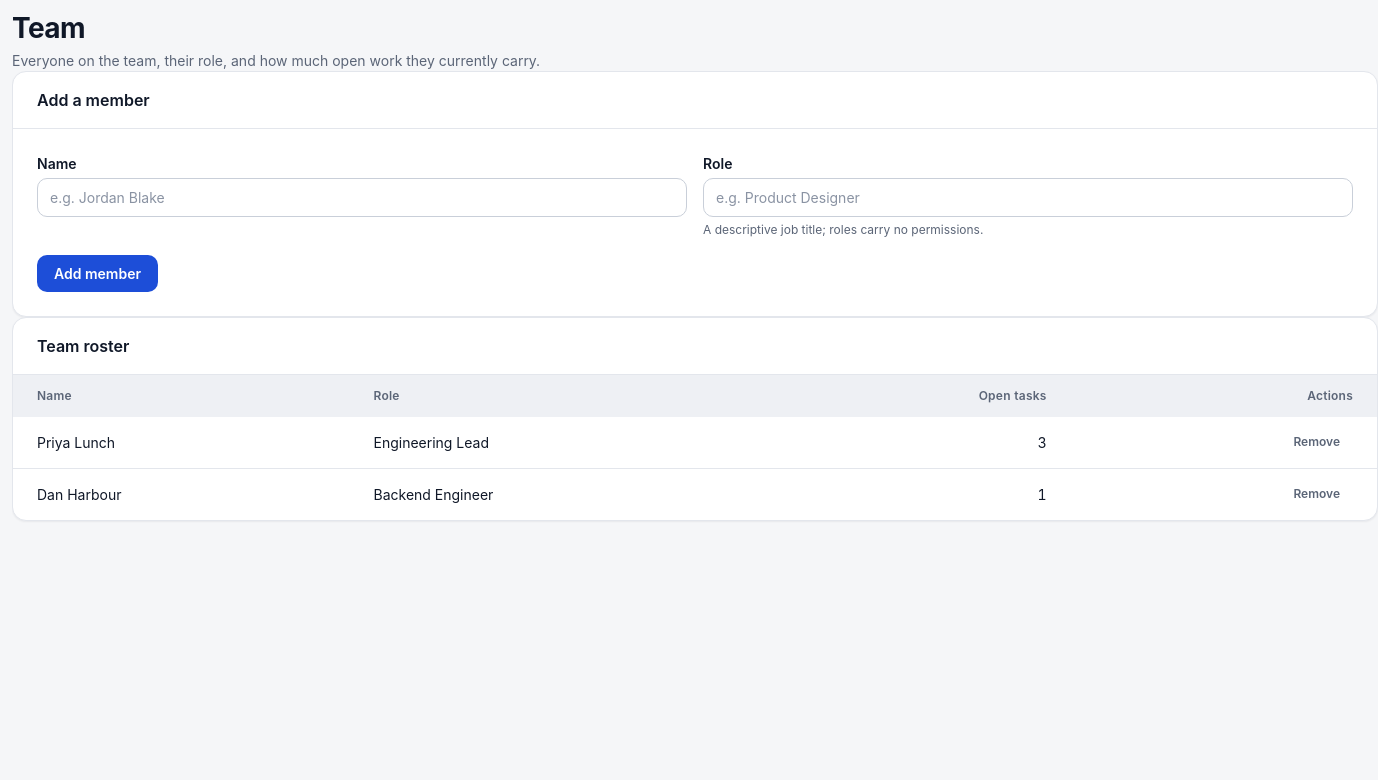
Test: TeamRoster › adds a member through the API and shows them in the list
Expected: the text "Priya Lunch" is shown, [13,417,350,468]
Type "Jordan Blake" into the field labelled "Name" at [362, 197], box [37,178,687,217]
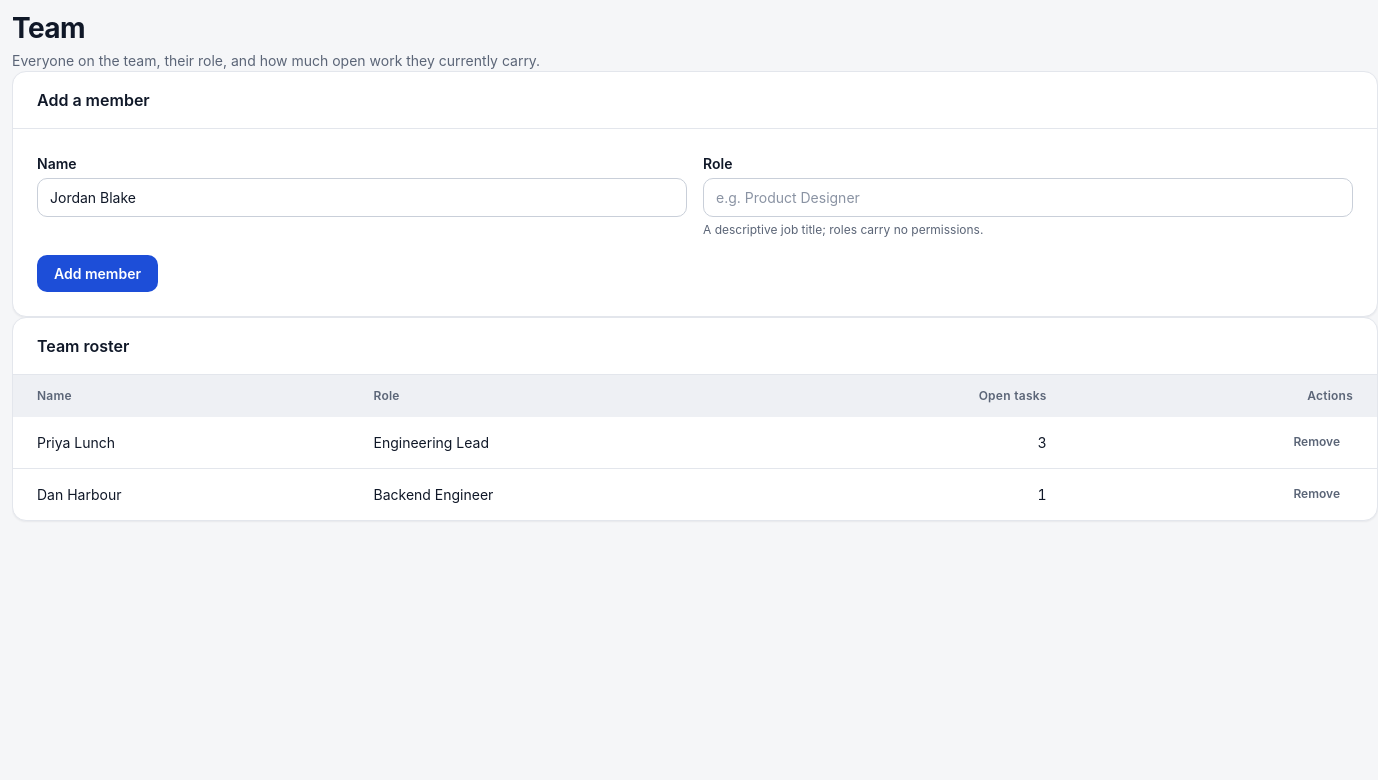
Type "Product Designer" into the field labelled "Role" at [1028, 197], box [703,178,1353,217]
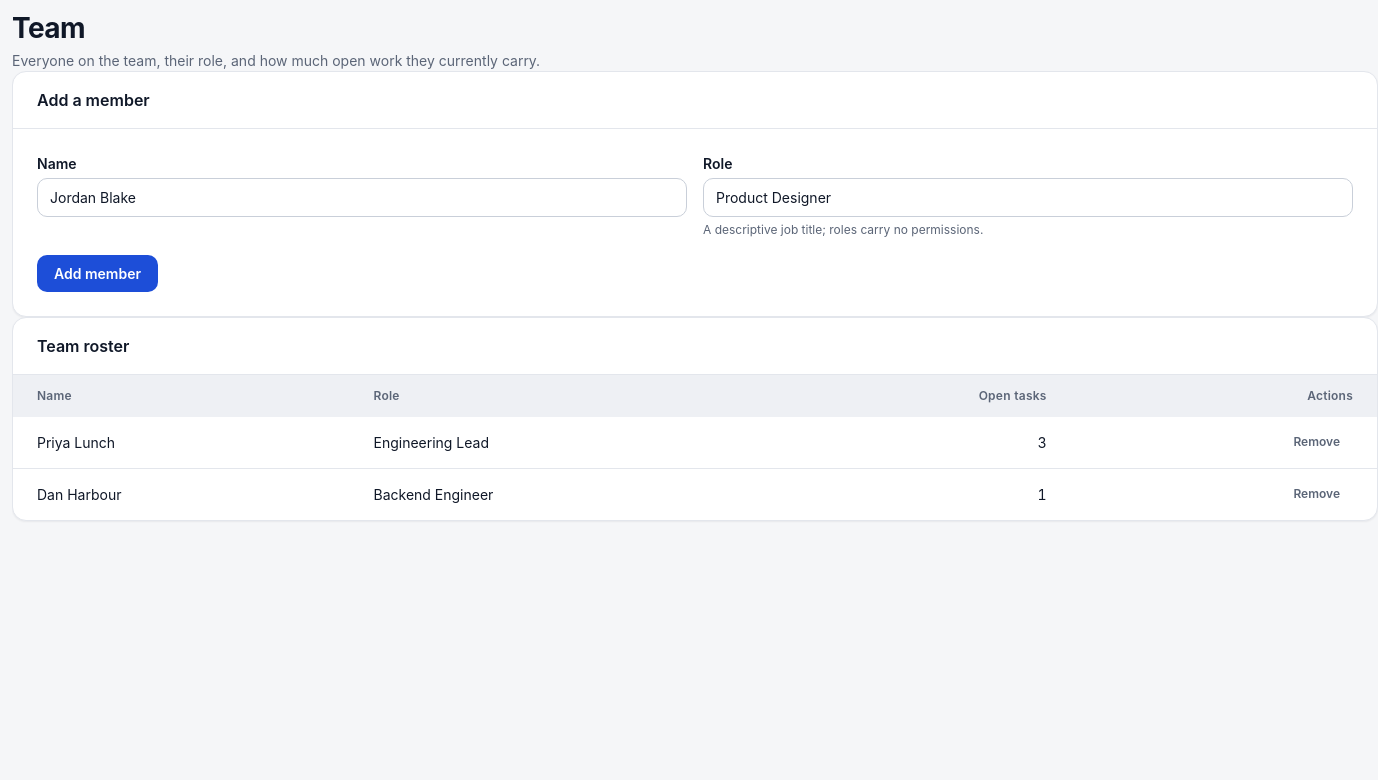
Click the button "Add member" at [98, 273], box [37,255,158,292]
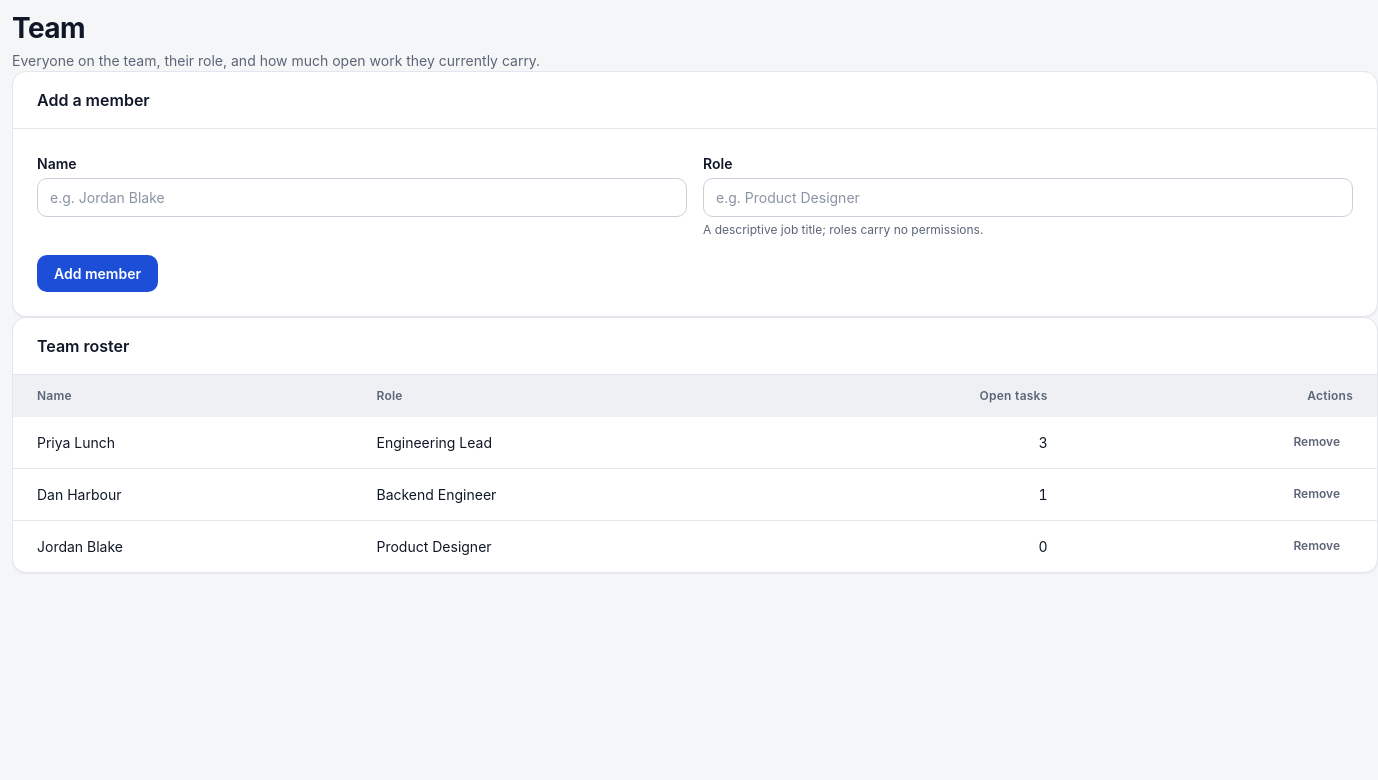
Now the text "Jordan Blake" is shown, box [13,520,352,572]
Now the text "Product Designer" is shown, box [352,520,778,572]
